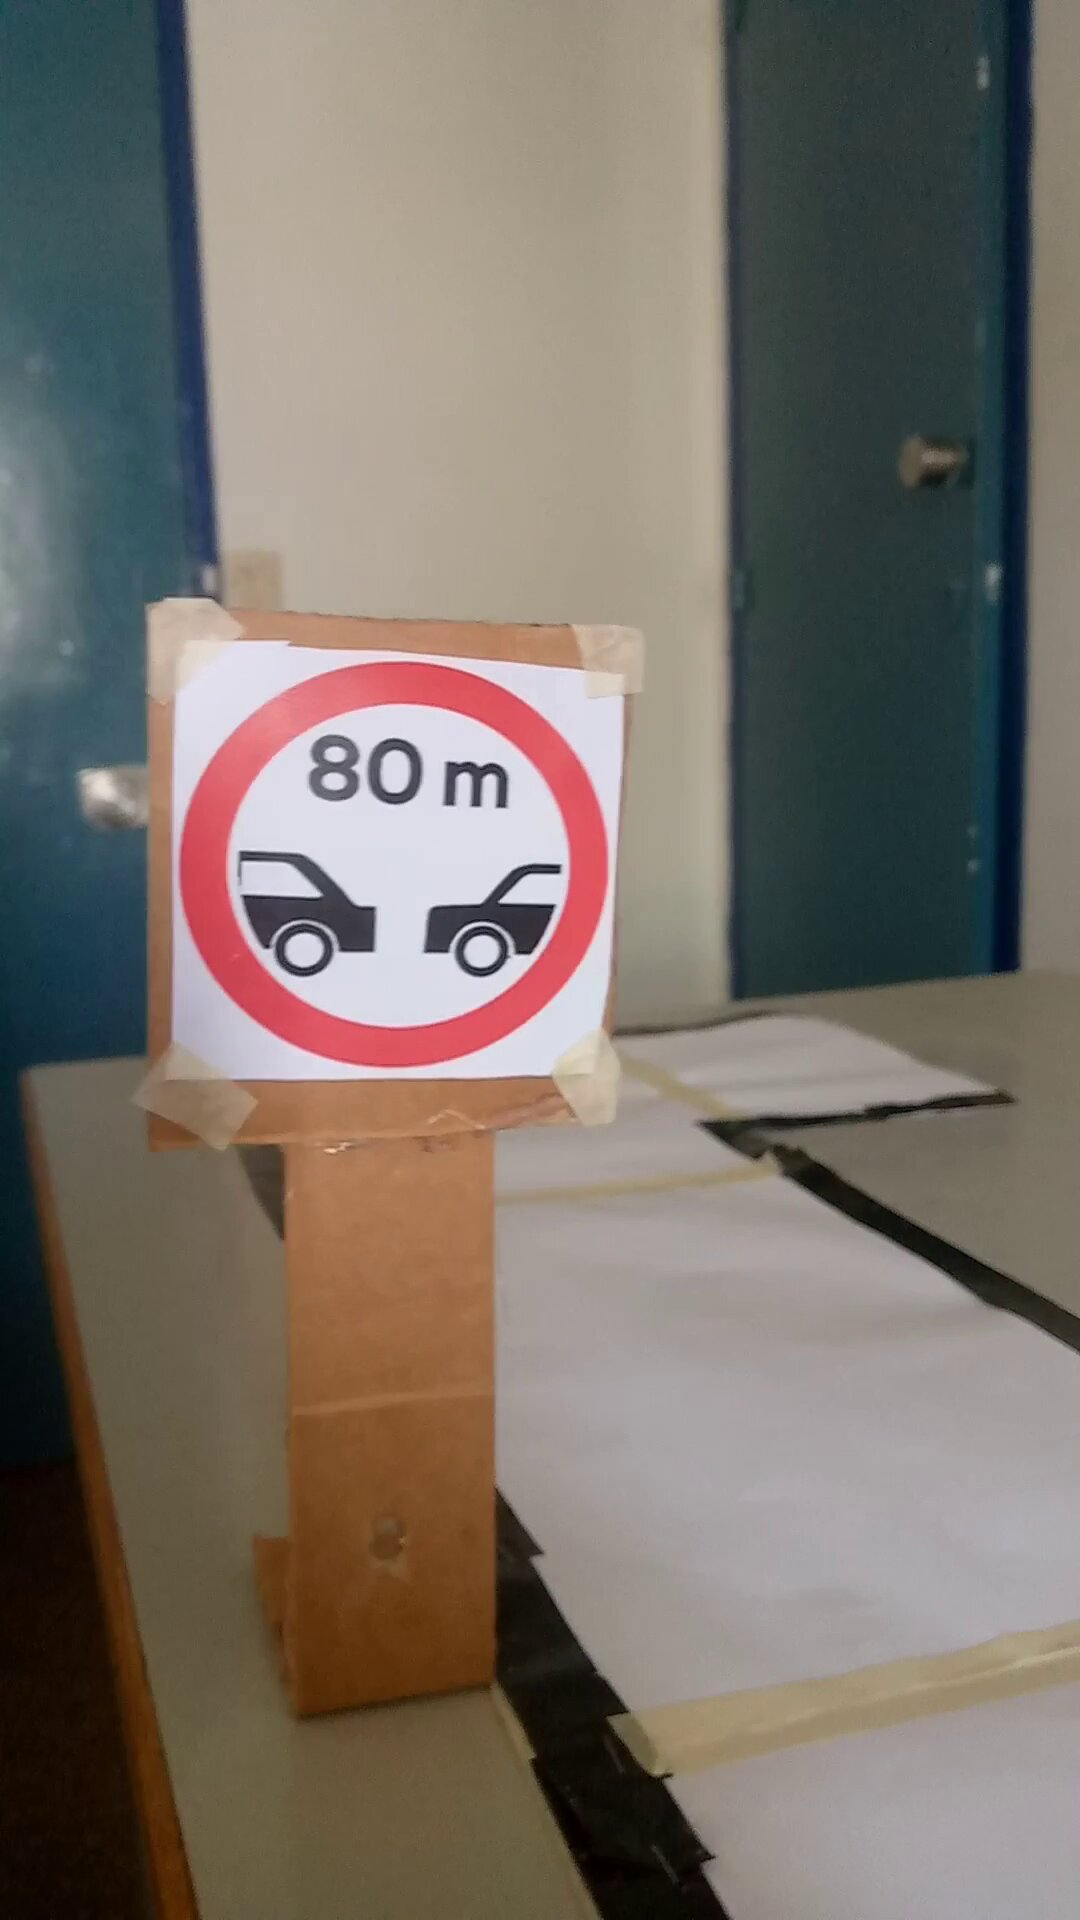panel001: (141, 593, 621, 1137)
